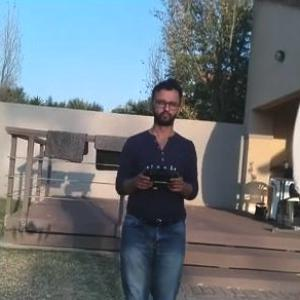follow: (105, 74, 199, 299)
